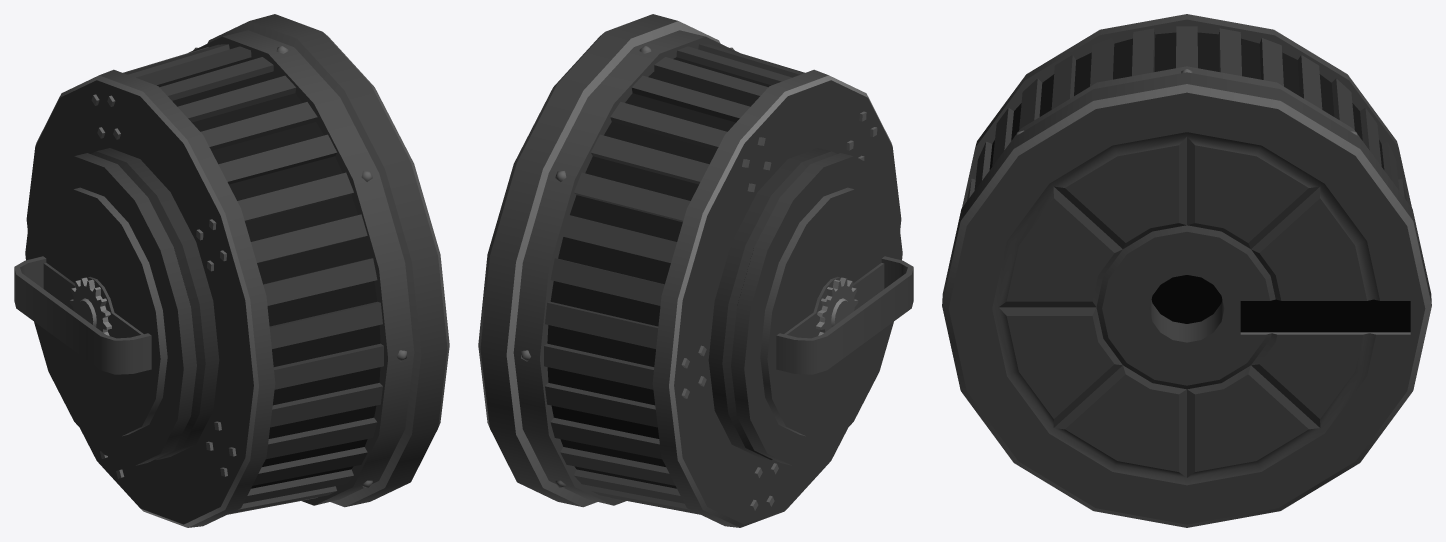
File: Mac-31_Mag.fbx
The picture shows the model from 3 angles, left to right: view 1: azimuth 30°, elevation 25°; view 2: azimuth 150°, elevation 25°; view 3: azimuth 270°, elevation 25°; orthographic projection.
Visible parts, largest first — view 1: Cube; view 2: Cube; view 3: Cube.
Boxes of the visible parts, x1=… form: Cube: x1=14, y1=14, x2=449, y2=527; Cube: x1=478, y1=14, x2=913, y2=527; Cube: x1=942, y1=14, x2=1431, y2=527.
Bounding box in the file's own units: 0.6045 × 0.9673 × 0.9673.
